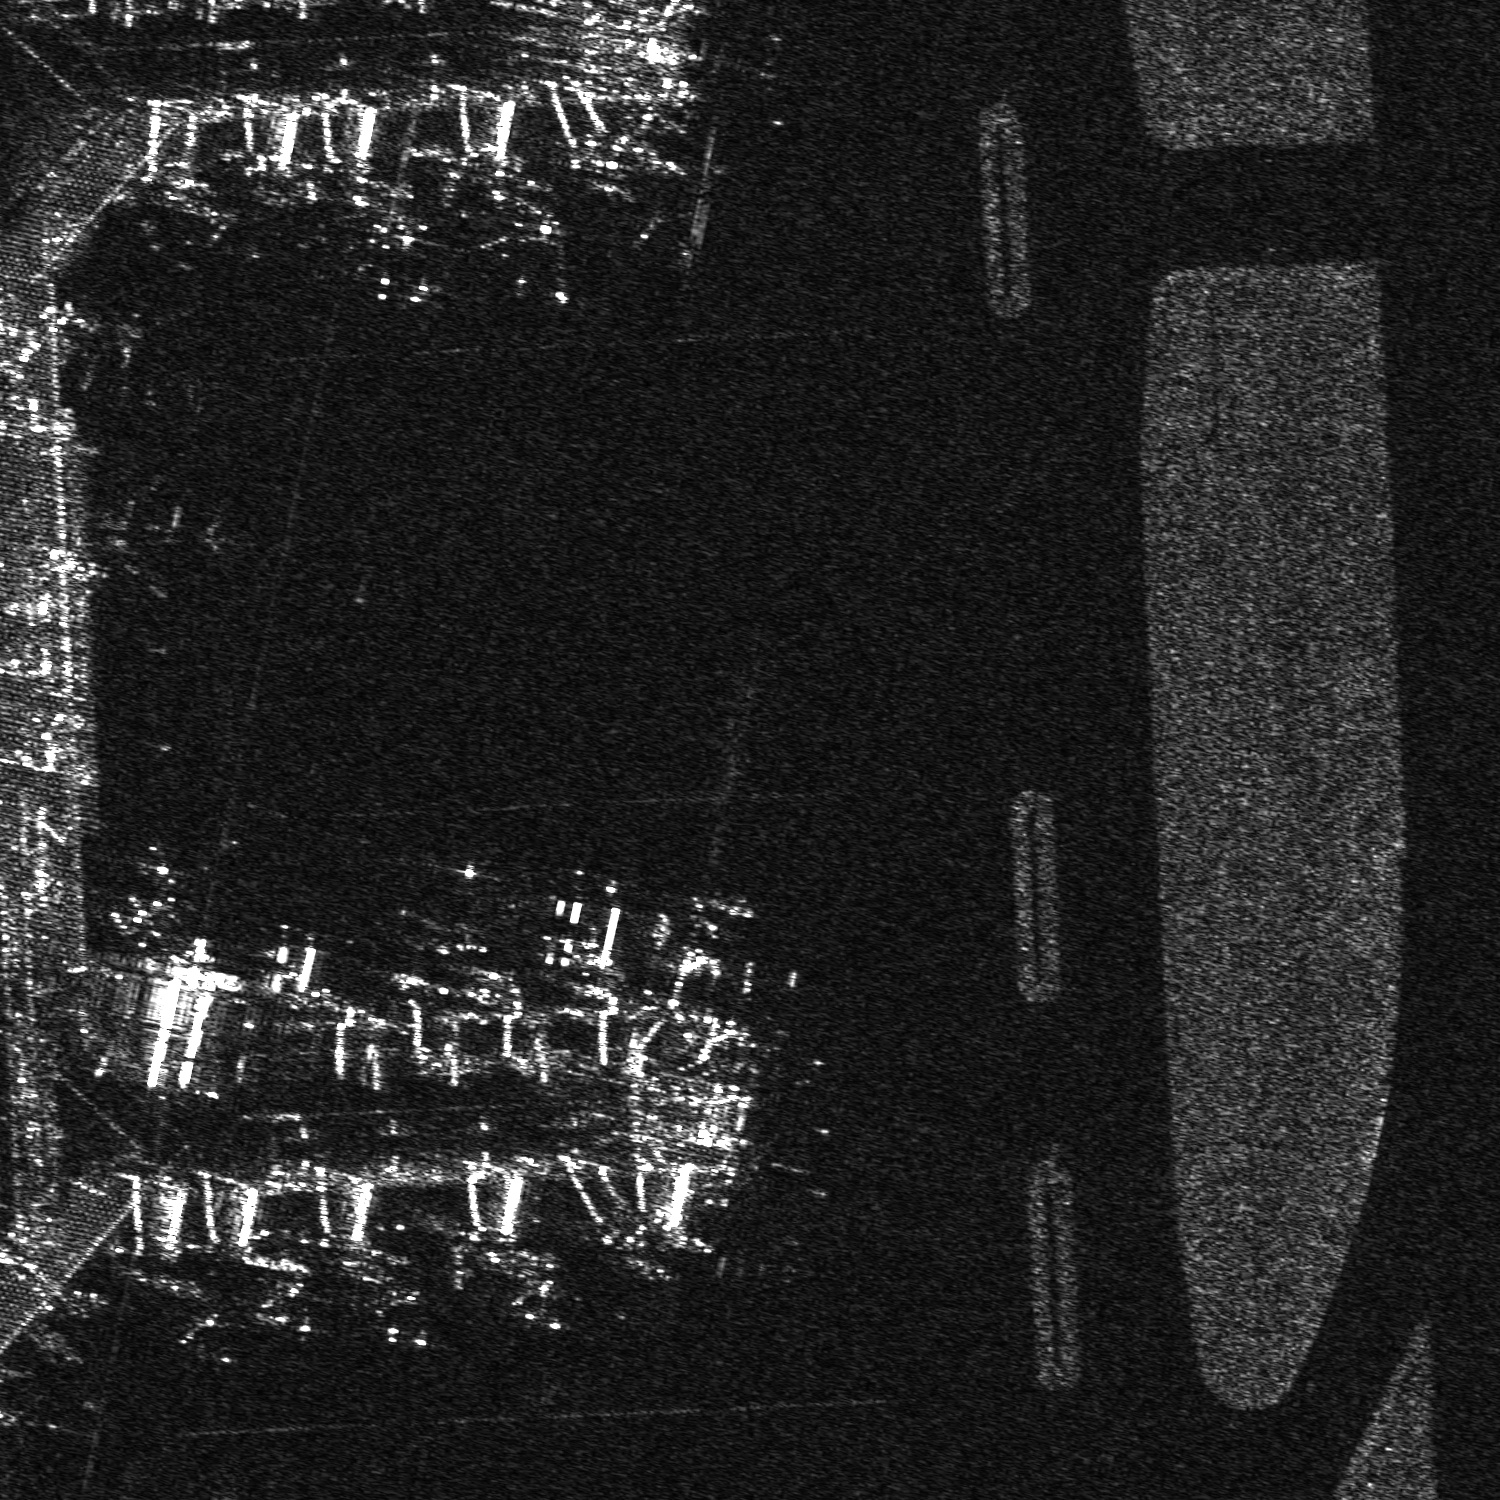A220: (257, 1262, 331, 1334)
A320/321: (87, 474, 225, 604), (346, 216, 452, 313), (620, 192, 709, 275)
Boeing737: (475, 207, 591, 302), (179, 1291, 245, 1368)
Boeing787: (365, 1255, 429, 1345)
other: (510, 1257, 581, 1331)
